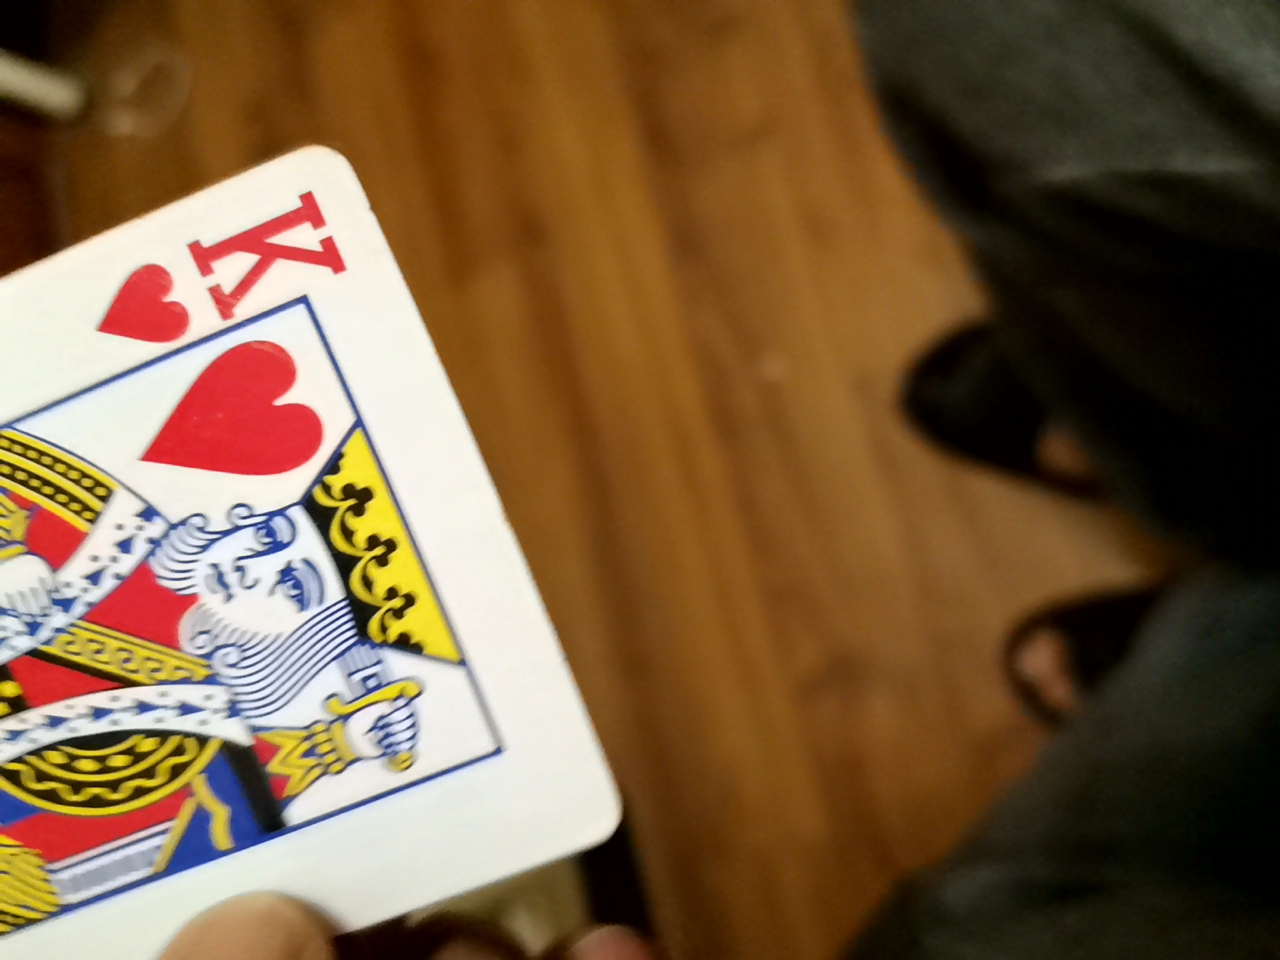hx k: (0, 165, 622, 953)
